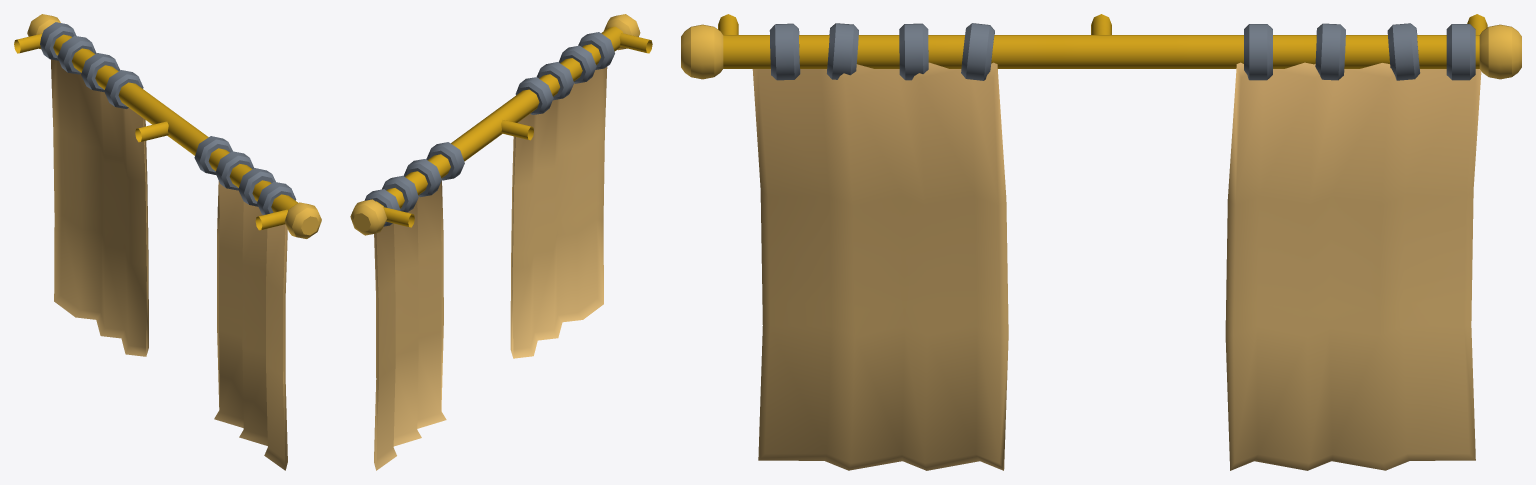
Rendered from Curtains_Long_2_A_L.glb.
3 views of the same model, side by side, from view 1: azimuth 30°, elevation 25°; view 2: azimuth 150°, elevation 25°; view 3: azimuth 270°, elevation 25° (orthographic). The views are drawn at different scales.
Parts seen in each view (by area): view 1: Curtains_Long_2_A_L; view 2: Curtains_Long_2_A_L; view 3: Curtains_Long_2_A_L.
Part boxes in pixels (x1,y1,x2,y2): Curtains_Long_2_A_L: (14, 14, 321, 470); Curtains_Long_2_A_L: (350, 14, 652, 470); Curtains_Long_2_A_L: (681, 14, 1521, 470).
Bounding box in the file's own units: 0.2288 × 1.16 × 2.02.
Materials: 2 (2 with a texture image).
